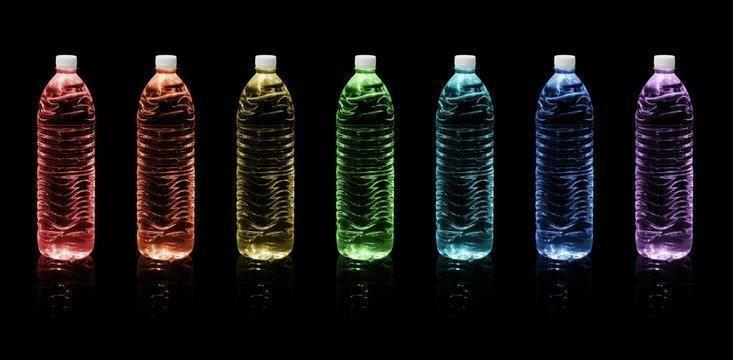bottle-plastic: (232, 52, 300, 263), (431, 52, 499, 263), (331, 52, 399, 263), (531, 52, 598, 263), (631, 52, 698, 263), (133, 52, 200, 262), (33, 52, 100, 262)
